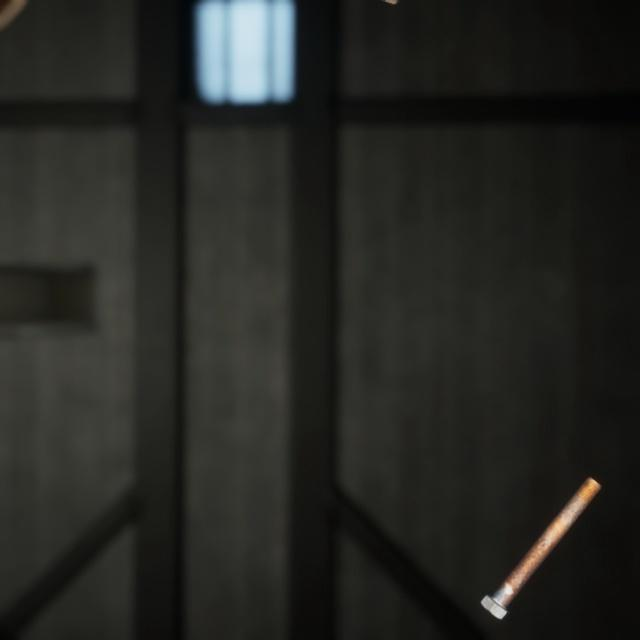bolt: (476, 450, 605, 602)
